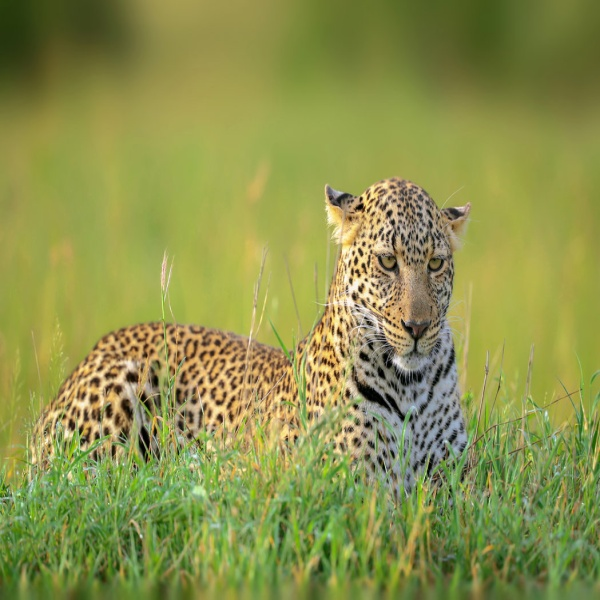Leopard: (33, 175, 482, 506)
